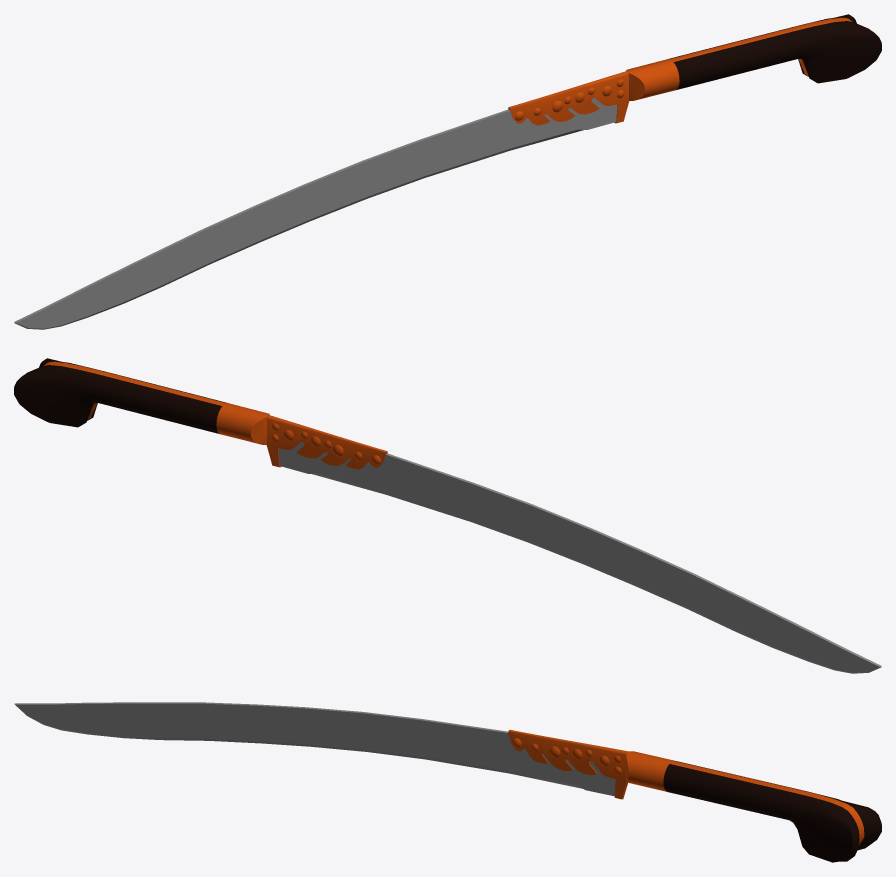
3 renders of one model, top to bottom at view 1: azimuth 30°, elevation 25°; view 2: azimuth 150°, elevation 25°; view 3: azimuth 330°, elevation 25°, orthographic.
Parts seen in each view (by area): view 1: Sharp, Handle.006 (×2); view 2: Sharp, Handle.006 (×2); view 3: Sharp, Handle.006 (×2), Handle.004.
Part boxes in pixels (bbox=[...]): Sharp: bbox=[14, 98, 617, 329]; Handle.006 (×2): bbox=[508, 14, 881, 125]; Sharp: bbox=[278, 442, 881, 673]; Handle.006 (×2): bbox=[14, 358, 387, 469]; Sharp: bbox=[14, 702, 615, 796]; Handle.006 (×2): bbox=[508, 729, 881, 862]; Handle.004: bbox=[512, 738, 621, 774].
Bounding box in the file's own units: 81.14 × 10.78 × 4.55.
